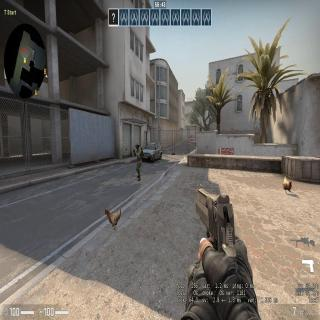CT-Body: (134, 141, 144, 179)
CT-Head: (135, 143, 140, 149)
